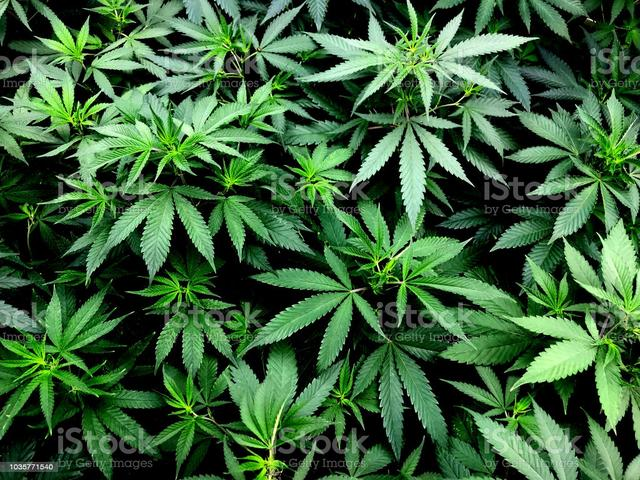Marijuana Bud: (237, 246, 395, 358), (341, 105, 473, 232), (503, 310, 640, 431), (391, 238, 520, 349), (511, 314, 630, 432), (102, 174, 232, 278), (407, 12, 545, 98), (350, 341, 443, 463), (299, 11, 412, 103), (36, 282, 138, 370), (508, 105, 599, 187), (150, 297, 236, 378), (177, 93, 264, 167), (78, 112, 161, 185), (12, 60, 95, 132), (432, 359, 525, 421), (149, 411, 226, 480), (204, 191, 267, 264), (513, 253, 571, 320), (28, 7, 95, 63), (1, 329, 54, 382)
